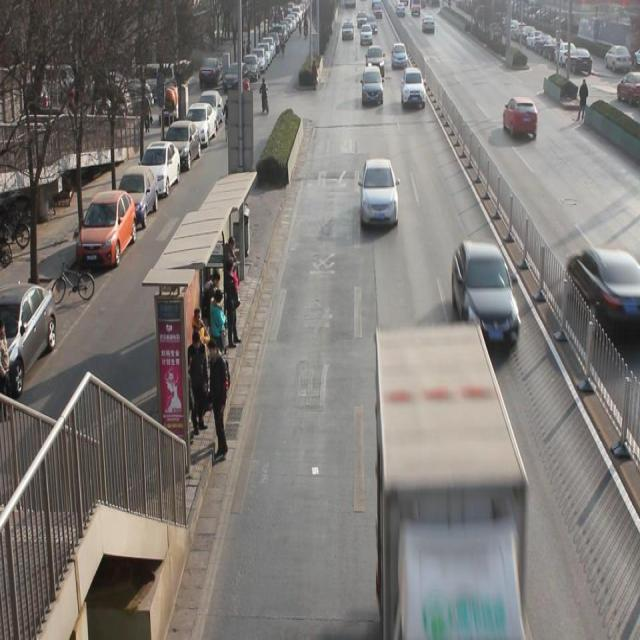bus: (371, 324, 523, 630)
car: (454, 241, 520, 353), (360, 159, 398, 234), (504, 97, 539, 138), (401, 71, 427, 112), (359, 66, 384, 107), (389, 39, 409, 74), (366, 45, 385, 74)
